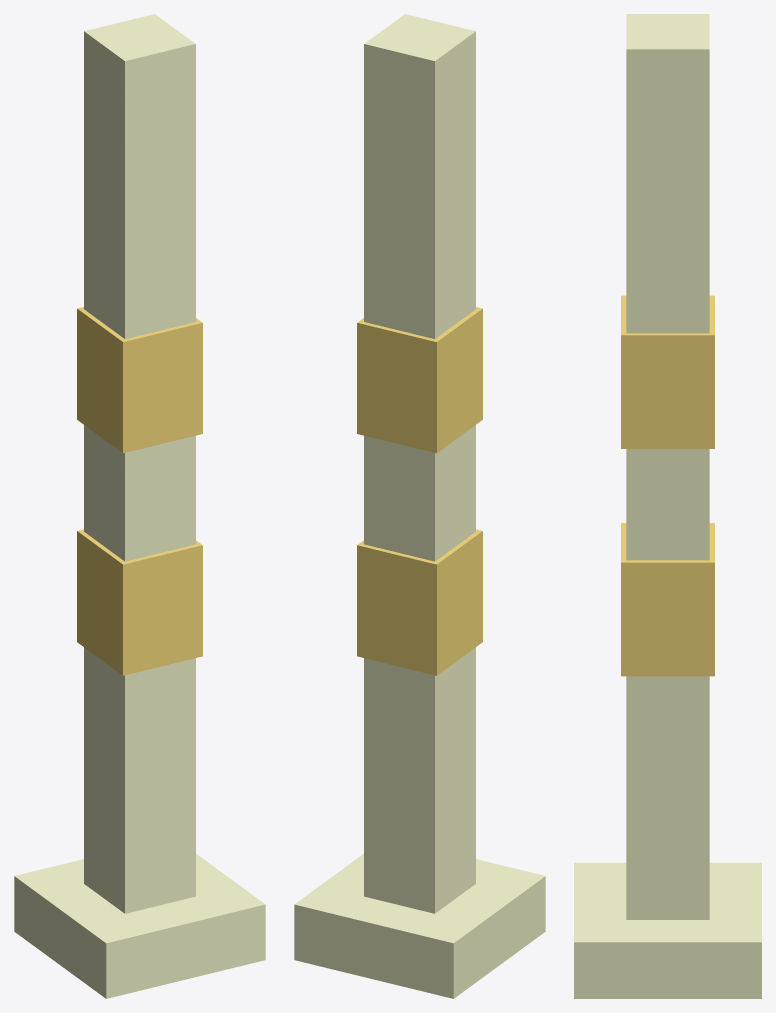
File: furniture_delineator_post.glb
3 renders of one model, left to right at view 1: azimuth 30°, elevation 25°; view 2: azimuth 150°, elevation 25°; view 3: azimuth 270°, elevation 25°, orthographic. The views are drawn at different scales.
Visible parts, largest first — view 1: post, base, band_upper, band_lower; view 2: post, base, band_upper, band_lower; view 3: post, base, band_lower, band_upper.
Part boxes in pixels (x1,y1,x2,y2): post: (84, 14, 195, 913); base: (14, 853, 265, 998); band_upper: (77, 307, 202, 453); band_lower: (77, 529, 202, 675); post: (364, 14, 475, 913); base: (294, 853, 545, 998); band_upper: (357, 307, 482, 453); band_lower: (357, 529, 482, 675); post: (626, 14, 709, 919); base: (574, 862, 761, 998); band_lower: (621, 523, 714, 676); band_upper: (621, 295, 714, 448).
Bounding box in the file's own units: 0.18 × 0.98 × 0.18.
